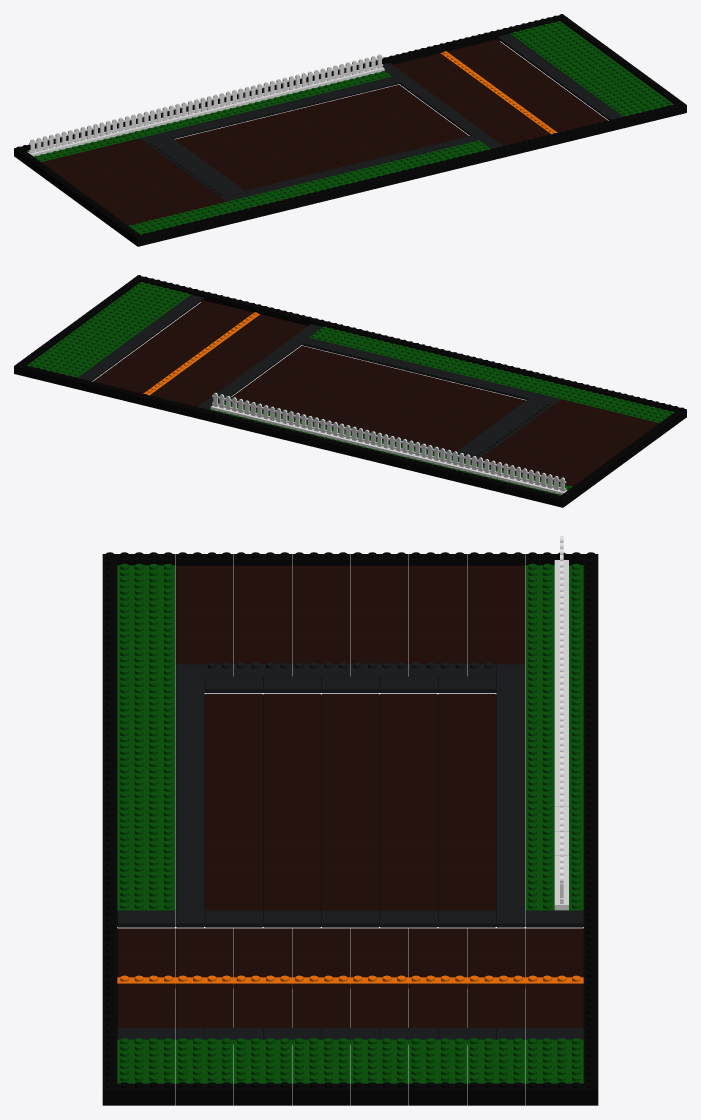
The model's file is Static Game World.dae.
3 renders of one model, top to bottom at view 1: azimuth 30°, elevation 25°; view 2: azimuth 150°, elevation 25°; view 3: azimuth 270°, elevation 25°, orthographic. The views are drawn at different scales.
Visible parts, largest first — view 1: Part.151, Part.157, Part.154, Part.152, Part.153, Part.155, Part.156, Part.73, Part.71, Part.150, Part.69, Part.72 (+95 smaller); view 2: Part.69, Part.70, Part.73, Part.173, Part.71, Part.72, Part.150, Part.156, Part.153, Part.155, Part.151, Part.152 (+85 smaller); view 3: Part.69, Part.72, Part.73, Part.173, Part.71, Part.174, Part.70, Part.150, Part.153, Part.154, Part.157, Part.151 (+131 smaller).
Boxes of the visible parts, x1,y1,x2,y2 form: Part.151: [597, 85, 661, 107]; Part.157: [510, 21, 574, 43]; Part.154: [553, 53, 617, 75]; Part.152: [583, 74, 646, 97]; Part.153: [568, 63, 632, 86]; Part.155: [539, 42, 603, 65]; Part.156: [524, 31, 588, 54]; Part.73: [227, 189, 288, 210]; Part.71: [328, 165, 389, 185]; Part.150: [612, 95, 673, 116]; Part.69: [429, 140, 490, 160]; Part.72: [278, 177, 338, 197]; Part.69: [309, 326, 373, 349]; Part.70: [360, 339, 424, 362]; Part.73: [511, 376, 575, 399]; Part.173: [562, 388, 625, 411]; Part.71: [410, 351, 474, 374]; Part.72: [461, 363, 524, 386]; Part.150: [126, 282, 190, 304]; Part.156: [39, 346, 103, 368]; Part.153: [83, 314, 147, 336]; Part.155: [54, 335, 117, 358]; Part.151: [112, 292, 176, 315]; Part.152: [97, 303, 161, 326]; Part.69: [117, 859, 175, 910]; Part.72: [117, 711, 175, 762]; Part.73: [117, 662, 175, 713]; Part.173: [117, 613, 175, 663]; Part.71: [117, 761, 175, 811]; Part.174: [117, 563, 175, 614]; Part.70: [117, 810, 175, 860]; Part.150: [117, 1038, 175, 1083]; Part.153: [292, 1038, 350, 1083]; Part.154: [350, 1038, 408, 1083]; Part.157: [525, 1038, 583, 1083]; Part.151: [175, 1038, 233, 1083].
Bounding box in the file's own units: 696 × 25.58 × 272.
